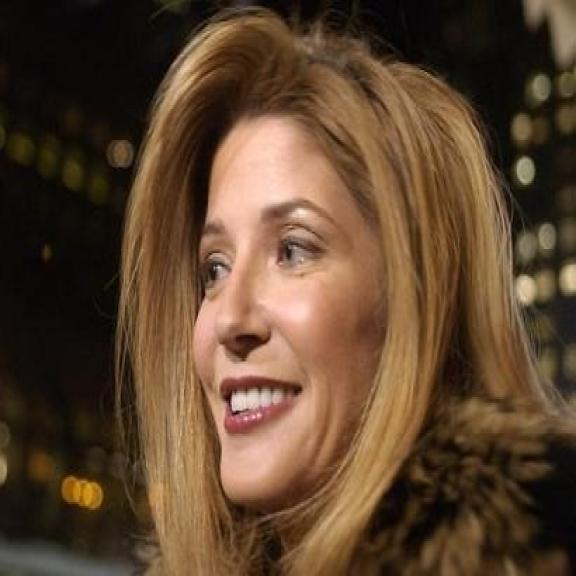face: (187, 69, 408, 531)
